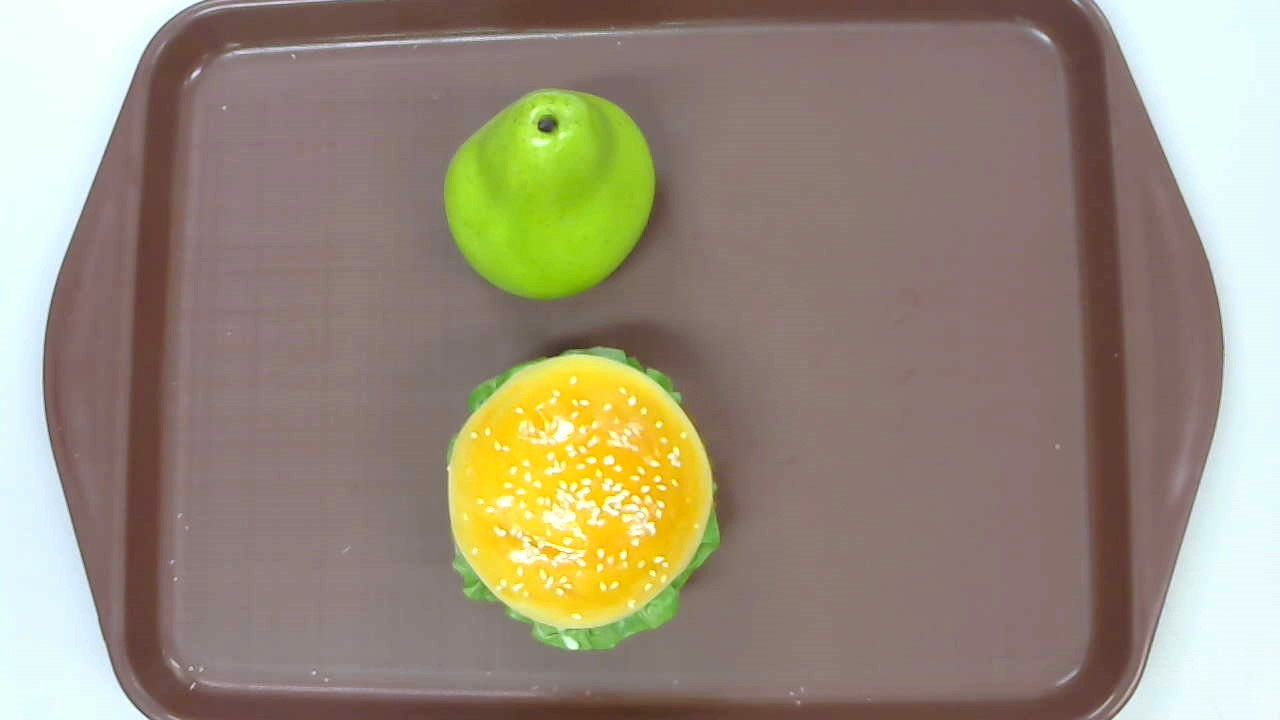green pear: (443, 88, 659, 300)
hamburger: (443, 345, 721, 650)
